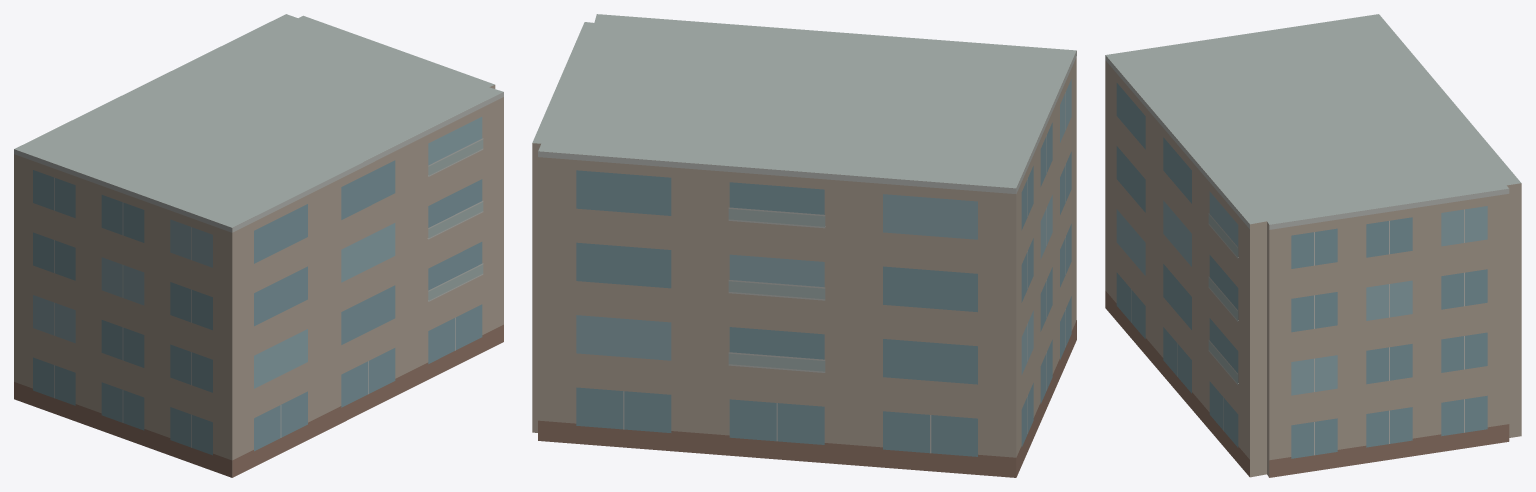
File: survey-upis-32586450.glb
3 renders of one model, left to right at view 1: azimuth 30°, elevation 25°; view 2: azimuth 150°, elevation 25°; view 3: azimuth 270°, elevation 25°, orthographic. The views are drawn at different scales.
Parts seen in each view (by area): view 1: survey-upis-32586450.tmp; view 2: survey-upis-32586450.tmp; view 3: survey-upis-32586450.tmp.
Boxes of the visible parts, x1,y1,x2,y2 form: survey-upis-32586450.tmp: (14, 14, 503, 477); survey-upis-32586450.tmp: (532, 14, 1076, 477); survey-upis-32586450.tmp: (1105, 14, 1521, 477).
Size of the model in its own units: 21.81 by 12.2 by 18.2.
